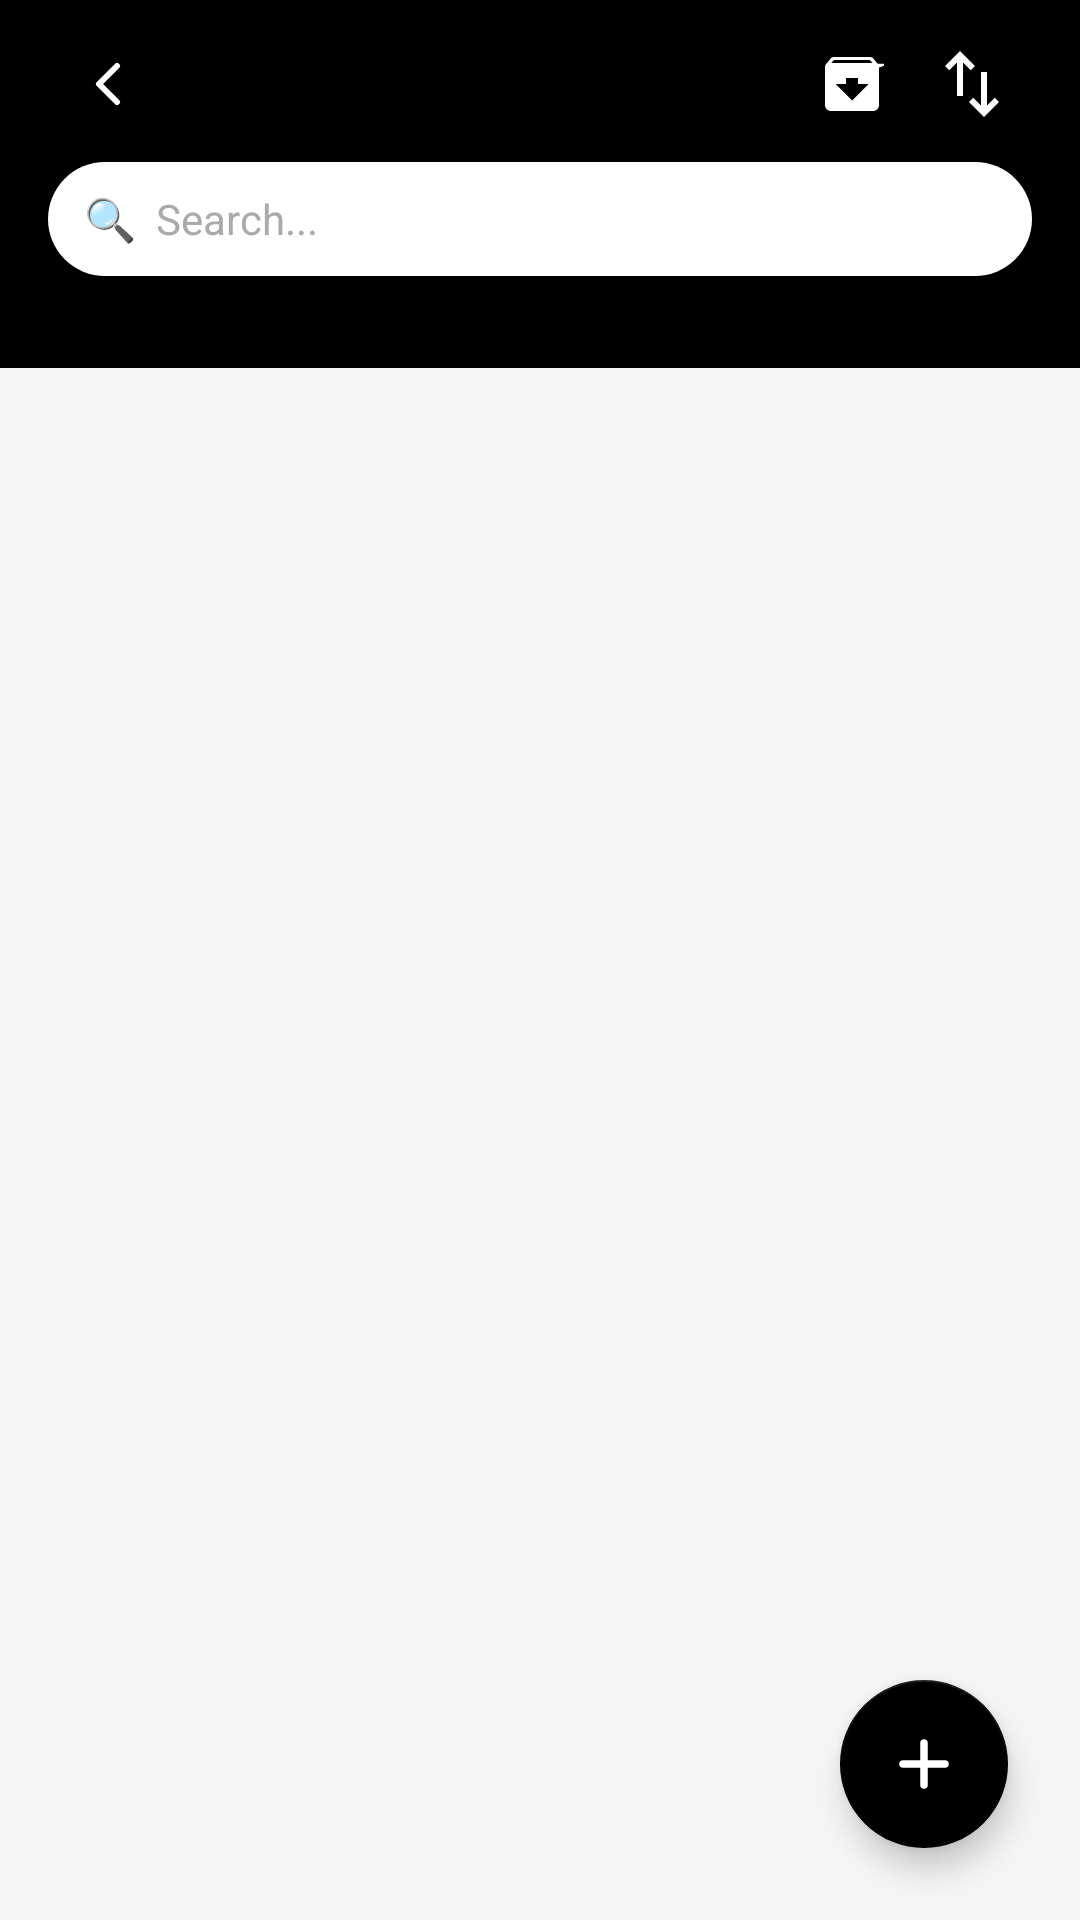

Where to tap for icons on this 1080px x 1920px app screen, as point (x, y):
Add: point (924, 1764)
Back: point (108, 84)
Sort: point (972, 84)
View archived: point (854, 84)
